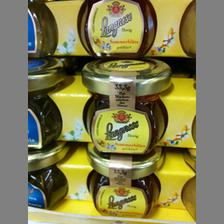Honig: (79, 59, 173, 153), (86, 144, 166, 216), (76, 0, 160, 58)
